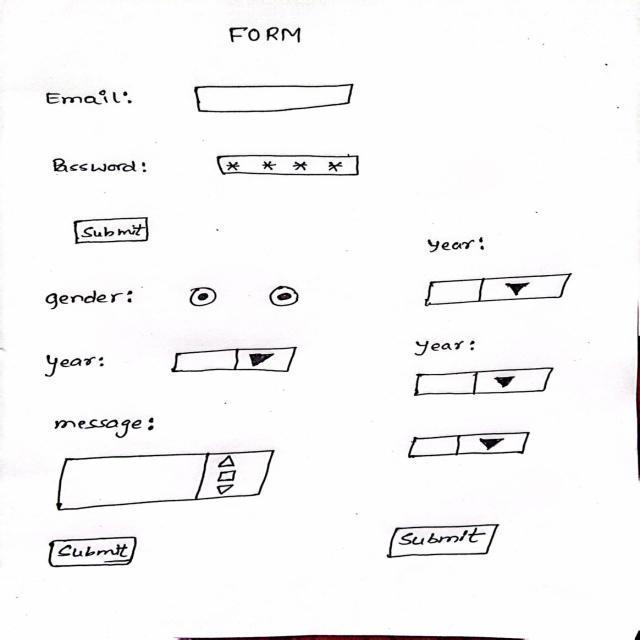radio: (419, 273, 579, 314), (266, 284, 302, 313), (190, 284, 221, 312)
textarea: (51, 448, 292, 515)
textbox: (187, 81, 370, 119)
